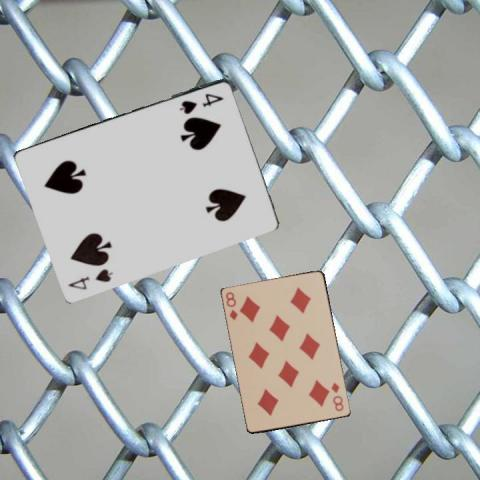4s: (65, 265, 115, 291), (176, 90, 225, 115)
8d: (328, 379, 345, 413), (223, 289, 239, 322)
